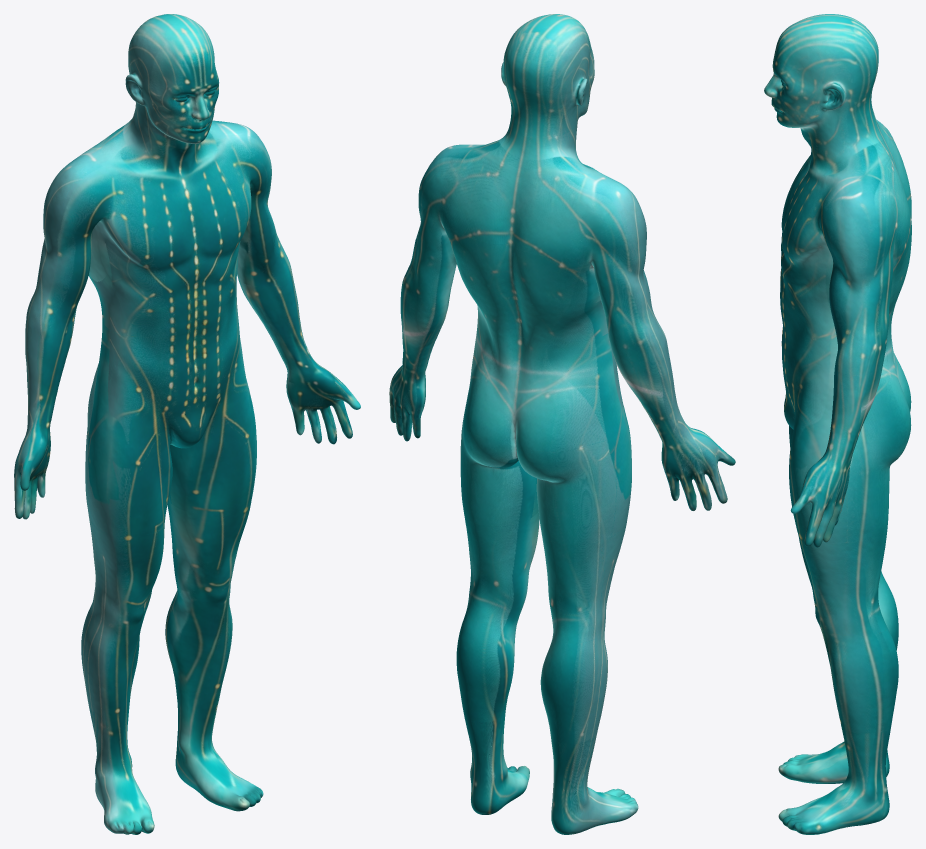
Rendered from meridian.glb.
The picture shows the model from 3 angles, left to right: view 1: azimuth 30°, elevation 25°; view 2: azimuth 150°, elevation 25°; view 3: azimuth 270°, elevation 25°; orthographic projection.
Visible parts, largest first — view 1: tmpaiukcy8uobj; view 2: tmpaiukcy8uobj; view 3: tmpaiukcy8uobj.
Part boxes in pixels (x1,y1,x2,y2): tmpaiukcy8uobj: (14,14,360,834); tmpaiukcy8uobj: (389,14,735,834); tmpaiukcy8uobj: (764,14,911,834).
Size of the model in its own units: 0.4498 by 1 by 0.1712.
Materials: 1 (1 with a texture image).
